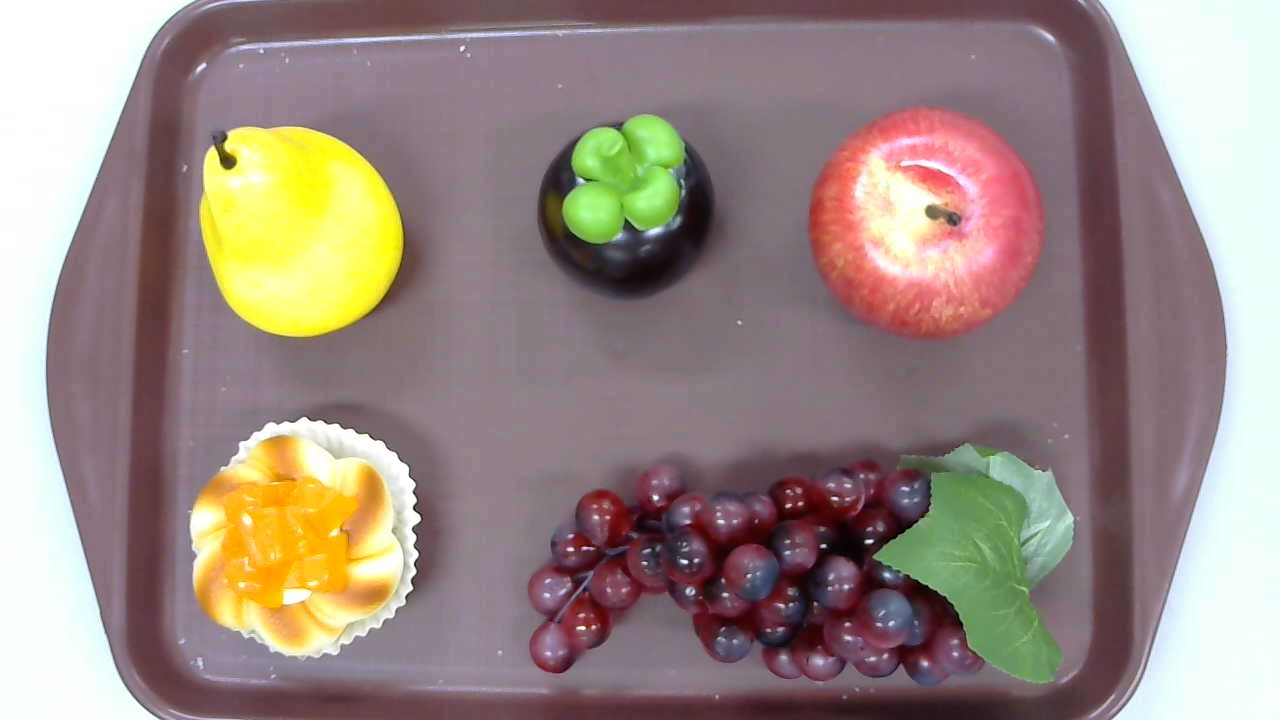grape: (529, 443, 1073, 691)
mango tower: (190, 417, 421, 661)
mangosteen: (538, 114, 715, 301)
red apple: (809, 106, 1046, 343)
yellow pear: (198, 125, 403, 337)
